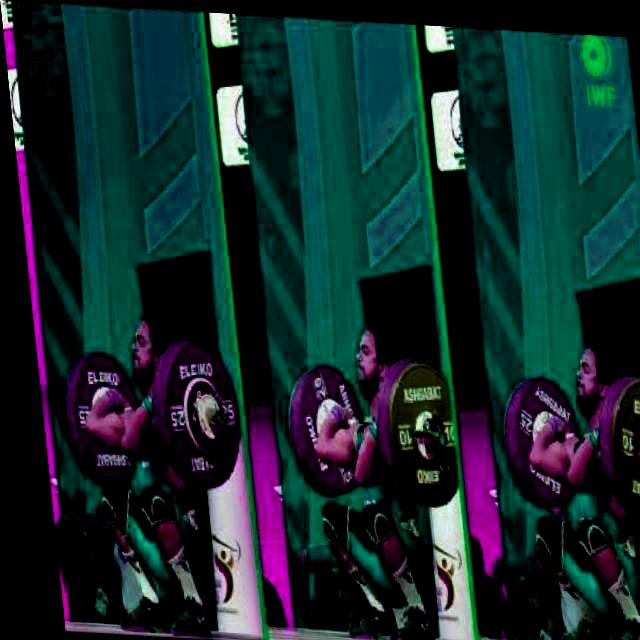barbell: (148, 334, 238, 494), (375, 352, 447, 505), (592, 369, 640, 522)
